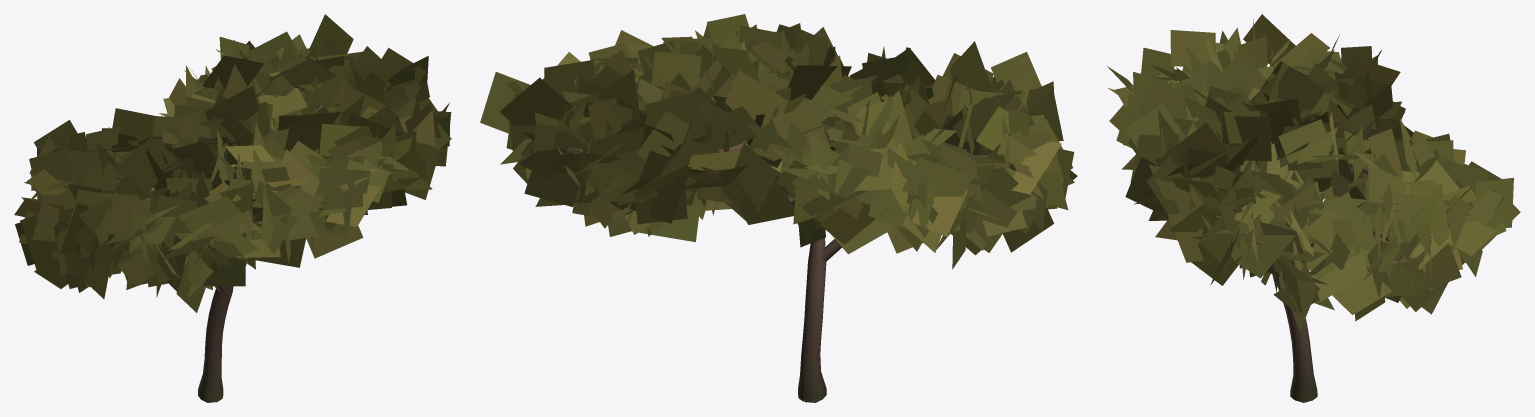
Rendered from broadleaf.acacia.dry.glb.
The picture shows the model from 3 angles, left to right: view 1: azimuth 30°, elevation 25°; view 2: azimuth 150°, elevation 25°; view 3: azimuth 270°, elevation 25°; orthographic projection. The views are drawn at different scales.
Visible parts, largest first — view 1: broadleaf_acacia_dry; view 2: broadleaf_acacia_dry; view 3: broadleaf_acacia_dry.
Boxes of the visible parts, bbox=[...] form: broadleaf_acacia_dry: bbox=[14, 14, 451, 402]; broadleaf_acacia_dry: bbox=[480, 14, 1077, 402]; broadleaf_acacia_dry: bbox=[1107, 14, 1520, 402].
Size of what is drawn, in the model's own units: 12.41 by 7.52 by 9.12.
